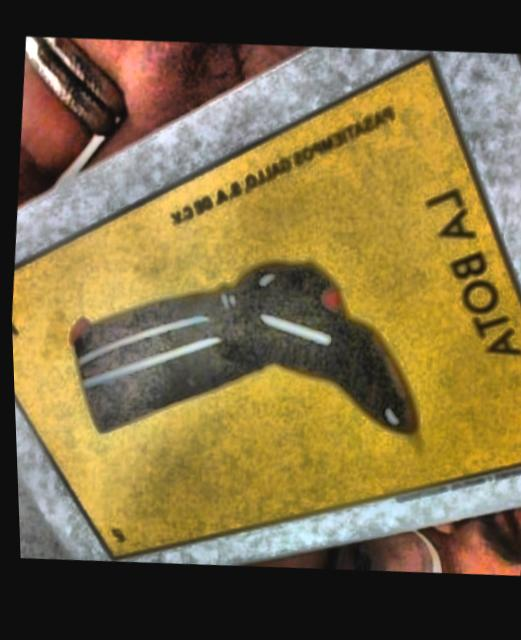La Bota: (9, 64, 521, 562)
